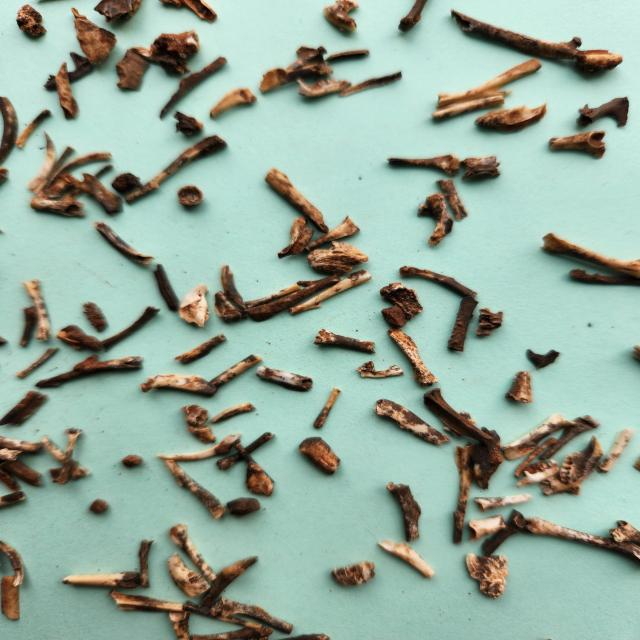fossil: (441, 4, 633, 85), (124, 133, 232, 207), (432, 55, 548, 114), (522, 512, 640, 569), (241, 274, 345, 324), (536, 229, 640, 277), (261, 166, 331, 236), (422, 386, 500, 448), (158, 55, 229, 122), (33, 352, 150, 391), (287, 268, 375, 318), (538, 433, 605, 498), (164, 456, 228, 522), (371, 396, 453, 447), (206, 594, 296, 637), (500, 412, 577, 461), (196, 555, 262, 611), (67, 5, 121, 73), (385, 326, 442, 388), (450, 441, 482, 548), (96, 303, 162, 352), (381, 478, 428, 544), (170, 522, 220, 584), (182, 596, 267, 632), (541, 410, 602, 460), (229, 437, 279, 498), (398, 263, 484, 298), (92, 219, 157, 265), (44, 150, 115, 192), (153, 429, 244, 461), (146, 28, 203, 79), (37, 434, 96, 482), (375, 537, 437, 582), (305, 238, 378, 276), (215, 430, 279, 472), (72, 170, 128, 218), (472, 100, 551, 134), (463, 434, 508, 493), (257, 61, 334, 95), (412, 190, 457, 248), (29, 143, 78, 196), (478, 508, 528, 558), (463, 550, 511, 602), (427, 92, 509, 122), (303, 213, 366, 252), (542, 128, 613, 162), (62, 162, 119, 204), (164, 551, 213, 599), (206, 352, 264, 392), (58, 568, 146, 594), (574, 94, 632, 133), (110, 45, 156, 94), (50, 424, 85, 488), (40, 51, 94, 92), (512, 434, 560, 480), (595, 425, 637, 477), (21, 275, 53, 343), (335, 69, 407, 99), (138, 371, 218, 398), (102, 590, 188, 615), (444, 295, 479, 356), (380, 152, 462, 178), (298, 434, 344, 480), (24, 130, 58, 192), (0, 388, 52, 428), (311, 326, 380, 356), (172, 331, 230, 366), (274, 215, 317, 262), (254, 363, 316, 395), (378, 281, 426, 321), (52, 58, 82, 122), (207, 86, 258, 122), (158, 0, 226, 27), (564, 266, 640, 290), (434, 177, 472, 224), (54, 322, 104, 357), (14, 345, 61, 382), (152, 260, 184, 313), (14, 108, 54, 150), (28, 194, 87, 222), (0, 455, 47, 490), (177, 280, 211, 328), (244, 281, 304, 308), (291, 76, 353, 102), (319, 0, 365, 35), (328, 558, 378, 590), (518, 344, 564, 378), (11, 3, 50, 43), (457, 153, 505, 185), (282, 40, 330, 72), (0, 92, 20, 167), (312, 386, 344, 432), (512, 457, 561, 487), (218, 263, 249, 310), (0, 570, 24, 630), (501, 368, 538, 406), (0, 537, 28, 587), (92, 0, 144, 26), (211, 288, 247, 325), (466, 513, 508, 544), (471, 492, 539, 511), (185, 626, 277, 640), (162, 609, 202, 640), (80, 299, 115, 334), (440, 408, 478, 440), (210, 401, 258, 426), (396, 0, 431, 34), (136, 536, 158, 590), (167, 109, 211, 136), (15, 303, 41, 348), (474, 304, 505, 340), (356, 359, 405, 381), (0, 434, 47, 456), (607, 518, 640, 548), (324, 46, 376, 65), (225, 495, 262, 521), (78, 496, 115, 522), (175, 183, 208, 210), (176, 403, 213, 427), (379, 302, 409, 330), (183, 422, 218, 445), (118, 451, 152, 474), (0, 488, 26, 516), (0, 467, 24, 493), (273, 631, 335, 640), (0, 444, 29, 463), (0, 159, 13, 188), (631, 340, 640, 367)
